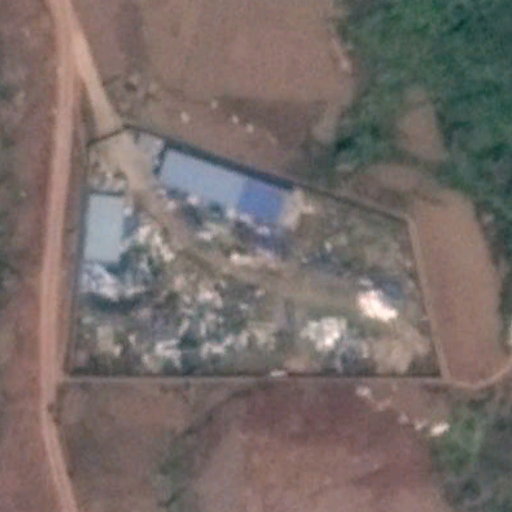msw: (80, 186, 433, 378)
